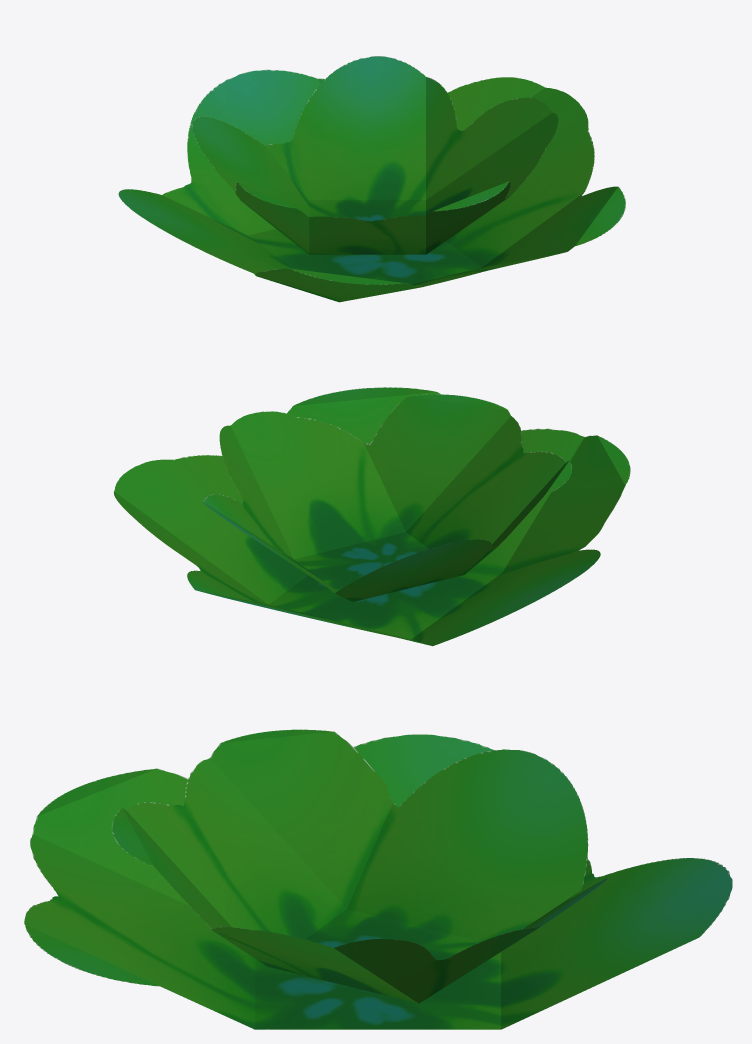
Rendered from greenGroundFlower_1.fbx.
3 renders of one model, top to bottom at view 1: azimuth 30°, elevation 25°; view 2: azimuth 150°, elevation 25°; view 3: azimuth 270°, elevation 25°, orthographic. The views are drawn at different scales.
Visible parts, largest first — view 1: greenGroundFlower_1; view 2: greenGroundFlower_1; view 3: greenGroundFlower_1.
Part boxes in pixels (x1=…): greenGroundFlower_1: x1=118, y1=56, x2=625, y2=302; greenGroundFlower_1: x1=113, y1=387, x2=630, y2=646; greenGroundFlower_1: x1=24, y1=729, x2=732, y2=1029.
Size of the model in its own units: 0.4041 by 0.0986 by 0.4122.
